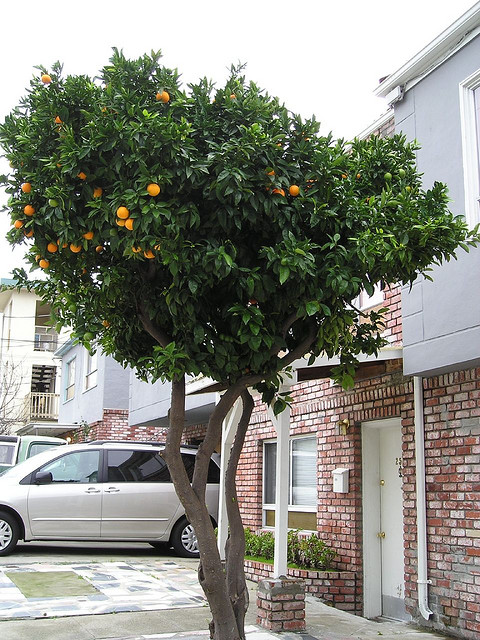tree: (1, 45, 476, 640)
